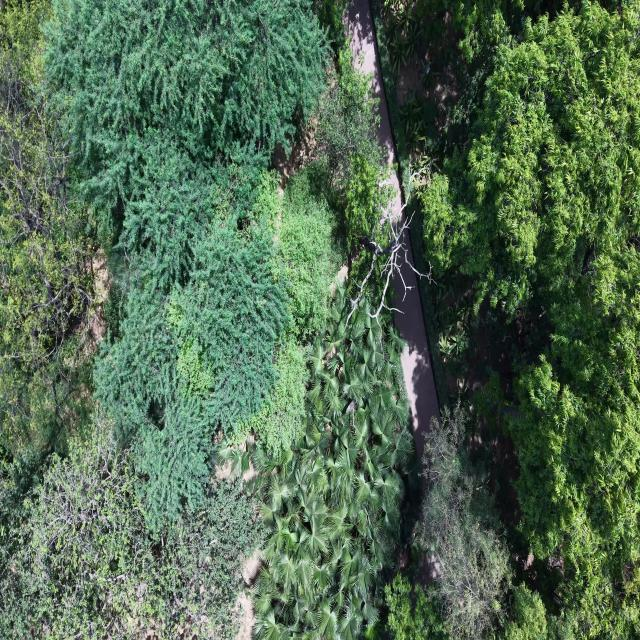DRY_AREA: (393, 265, 439, 459)
VEGETATION_TREE: (0, 0, 639, 639), (0, 0, 412, 638), (385, 2, 639, 637), (47, 2, 341, 525), (46, 0, 326, 526), (422, 4, 639, 636), (46, 0, 326, 283), (221, 282, 412, 638), (424, 5, 639, 315), (0, 417, 264, 638), (95, 227, 287, 521), (253, 289, 412, 639), (507, 249, 639, 634), (385, 399, 579, 639), (0, 2, 95, 456), (237, 165, 344, 455), (318, 41, 430, 313), (376, 0, 543, 164), (415, 402, 510, 639), (318, 46, 390, 255), (276, 166, 345, 340), (317, 45, 383, 199), (244, 339, 308, 454), (488, 584, 577, 639), (499, 584, 577, 639), (385, 575, 447, 639), (312, 0, 346, 56)
